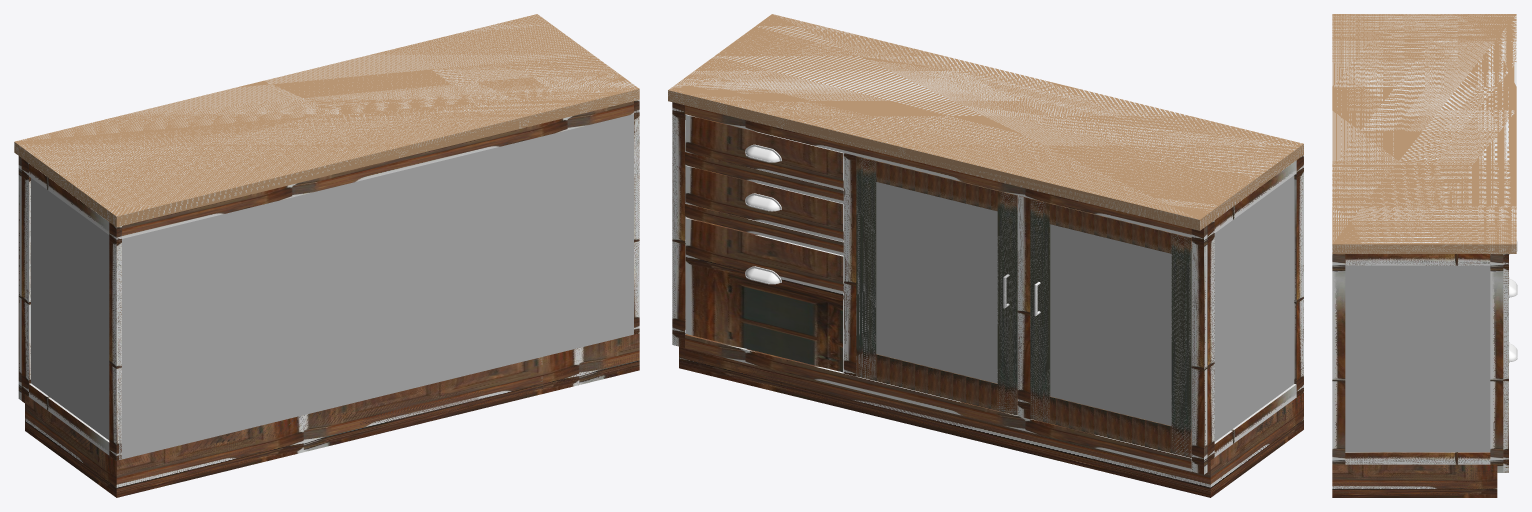
The picture shows the model from 3 angles, left to right: view 1: azimuth 30°, elevation 25°; view 2: azimuth 150°, elevation 25°; view 3: azimuth 270°, elevation 25°; orthographic projection. The views are drawn at different scales.
Visible parts, largest first — view 1: mesh51_mesh51-geometry, mesh1_mesh1-geometry, mesh5_mesh5-geometry, mesh49_mesh49-geometry, mesh18_mesh18-geometry, mesh8_mesh8-geometry, mesh41_mesh41-geometry, mesh45_mesh45-geometry, mesh16_mesh16-geometry, mesh43_mesh43-geometry, mesh39_mesh39-geometry, mesh14_mesh14-geometry; view 2: mesh1_mesh1-geometry, mesh78_mesh78-geometry, mesh92_mesh92-geometry, mesh68_mesh68-geometry, mesh49_mesh49-geometry, mesh2_mesh2-geometry, mesh33_mesh33-geometry, mesh66_mesh66-geometry, mesh64_mesh64-geometry, mesh10_mesh10-geometry, mesh70_mesh70-geometry, mesh84_mesh84-geometry (+18 smaller); view 3: mesh1_mesh1-geometry, mesh47_mesh47-geometry, mesh53_mesh53-geometry, mesh35_mesh35-geometry, mesh16_mesh16-geometry, mesh21_mesh21-geometry, mesh37_mesh37-geometry, mesh60_mesh60-geometry, mesh98_mesh98-geometry.
Part boxes in pixels (x1,y1,x2,y2): mesh51_mesh51-geometry: [119, 114, 633, 459]; mesh1_mesh1-geometry: [14, 14, 639, 227]; mesh5_mesh5-geometry: [116, 333, 639, 497]; mesh49_mesh49-geometry: [31, 178, 109, 440]; mesh18_mesh18-geometry: [122, 101, 633, 238]; mesh8_mesh8-geometry: [25, 394, 116, 497]; mesh41_mesh41-geometry: [109, 222, 121, 460]; mesh45_mesh45-geometry: [21, 158, 30, 402]; mesh16_mesh16-geometry: [634, 100, 639, 334]; mesh43_mesh43-geometry: [29, 383, 109, 455]; mesh39_mesh39-geometry: [29, 163, 109, 234]; mesh14_mesh14-geometry: [18, 156, 21, 400]; mesh1_mesh1-geometry: [668, 14, 1303, 230]; mesh78_mesh78-geometry: [1050, 224, 1171, 425]; mesh92_mesh92-geometry: [876, 182, 997, 383]; mesh68_mesh68-geometry: [685, 217, 843, 372]; mesh49_mesh49-geometry: [1214, 175, 1294, 441]; mesh2_mesh2-geometry: [679, 346, 1210, 497]; mesh33_mesh33-geometry: [685, 334, 1191, 471]; mesh66_mesh66-geometry: [685, 165, 843, 241]; mesh64_mesh64-geometry: [685, 114, 843, 190]; mesh10_mesh10-geometry: [685, 105, 1191, 237]; mesh70_mesh70-geometry: [1171, 233, 1191, 457]; mesh84_mesh84-geometry: [856, 156, 876, 380]; mesh1_mesh1-geometry: [1332, 14, 1516, 253]; mesh47_mesh47-geometry: [1345, 265, 1490, 451]; mesh53_mesh53-geometry: [1332, 464, 1497, 497]; mesh35_mesh35-geometry: [1490, 254, 1503, 472]; mesh16_mesh16-geometry: [1332, 254, 1345, 464]; mesh21_mesh21-geometry: [1345, 452, 1490, 464]; mesh37_mesh37-geometry: [1345, 254, 1490, 265]; mesh60_mesh60-geometry: [1503, 253, 1508, 472]; mesh98_mesh98-geometry: [1509, 241, 1517, 362].
Bounding box in the file's own units: 0.8512 × 0.4375 × 0.29.
